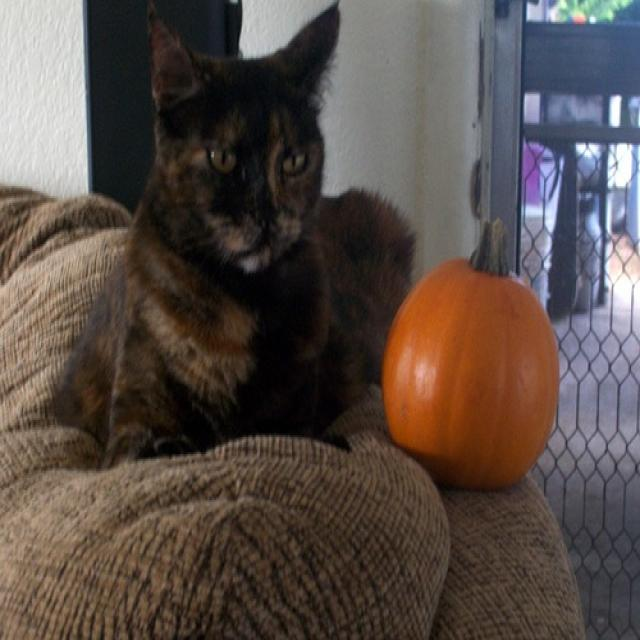cat: (45, 0, 420, 464)
